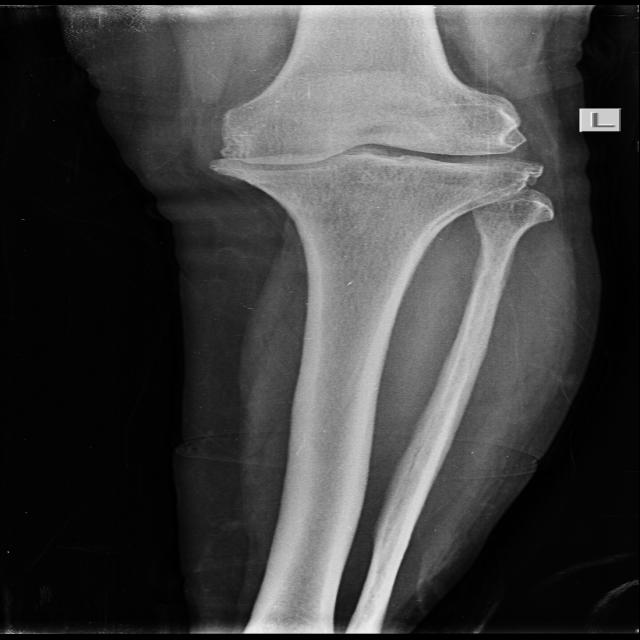normal: (204, 95, 546, 199)
